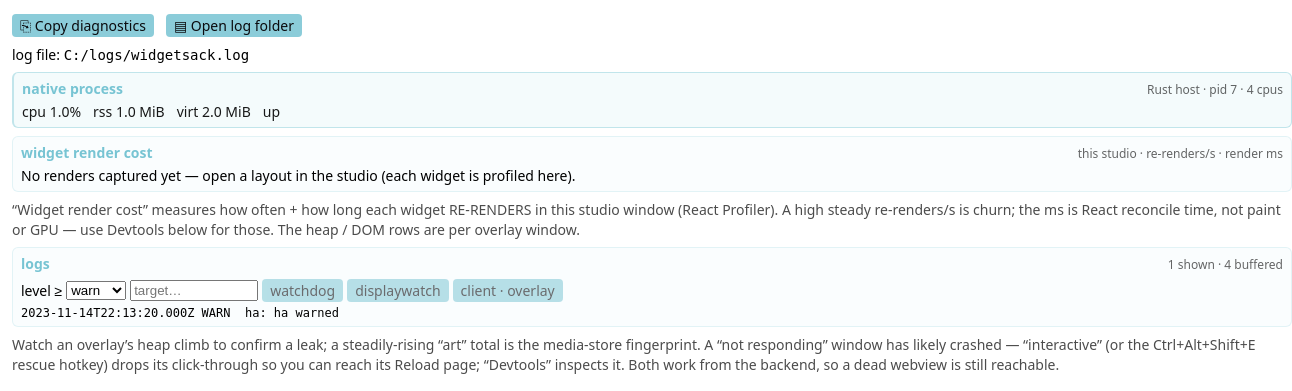
Test: DiagnosticsPanel logs pane › "Copy diagnostics" composes the report from version, monitors, process and logs
The image size is (1292, 391).
Expected: the text "2023-11-14T22:13:20.000Z WARN ha: ha warned" is shown, [21, 306, 339, 320]
Expected: the text "Rust host · pid 7 · 4 cpus" is shown, [1147, 81, 1283, 98]
Click the button "⎘ Copy diagnostics". click: (83, 26)
box: [12, 14, 154, 37]
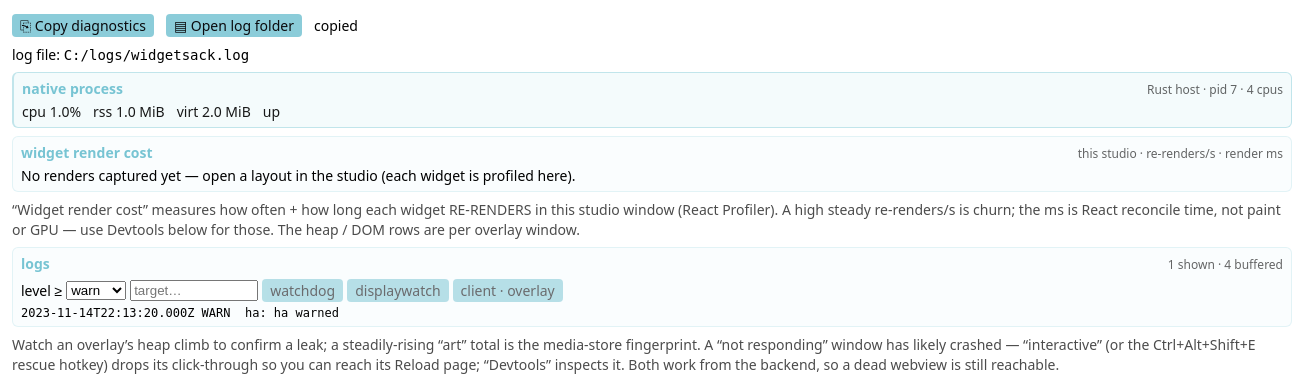
Expected: the text "copied" is shown, [314, 16, 358, 35]
